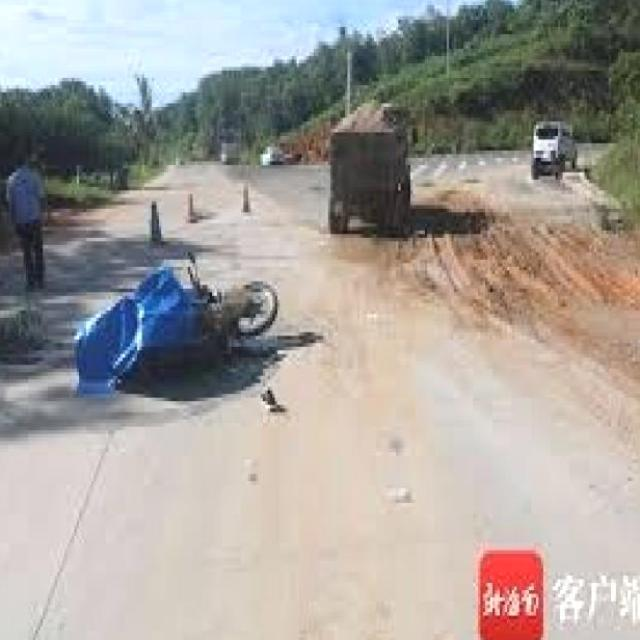accident: (63, 252, 322, 430)
